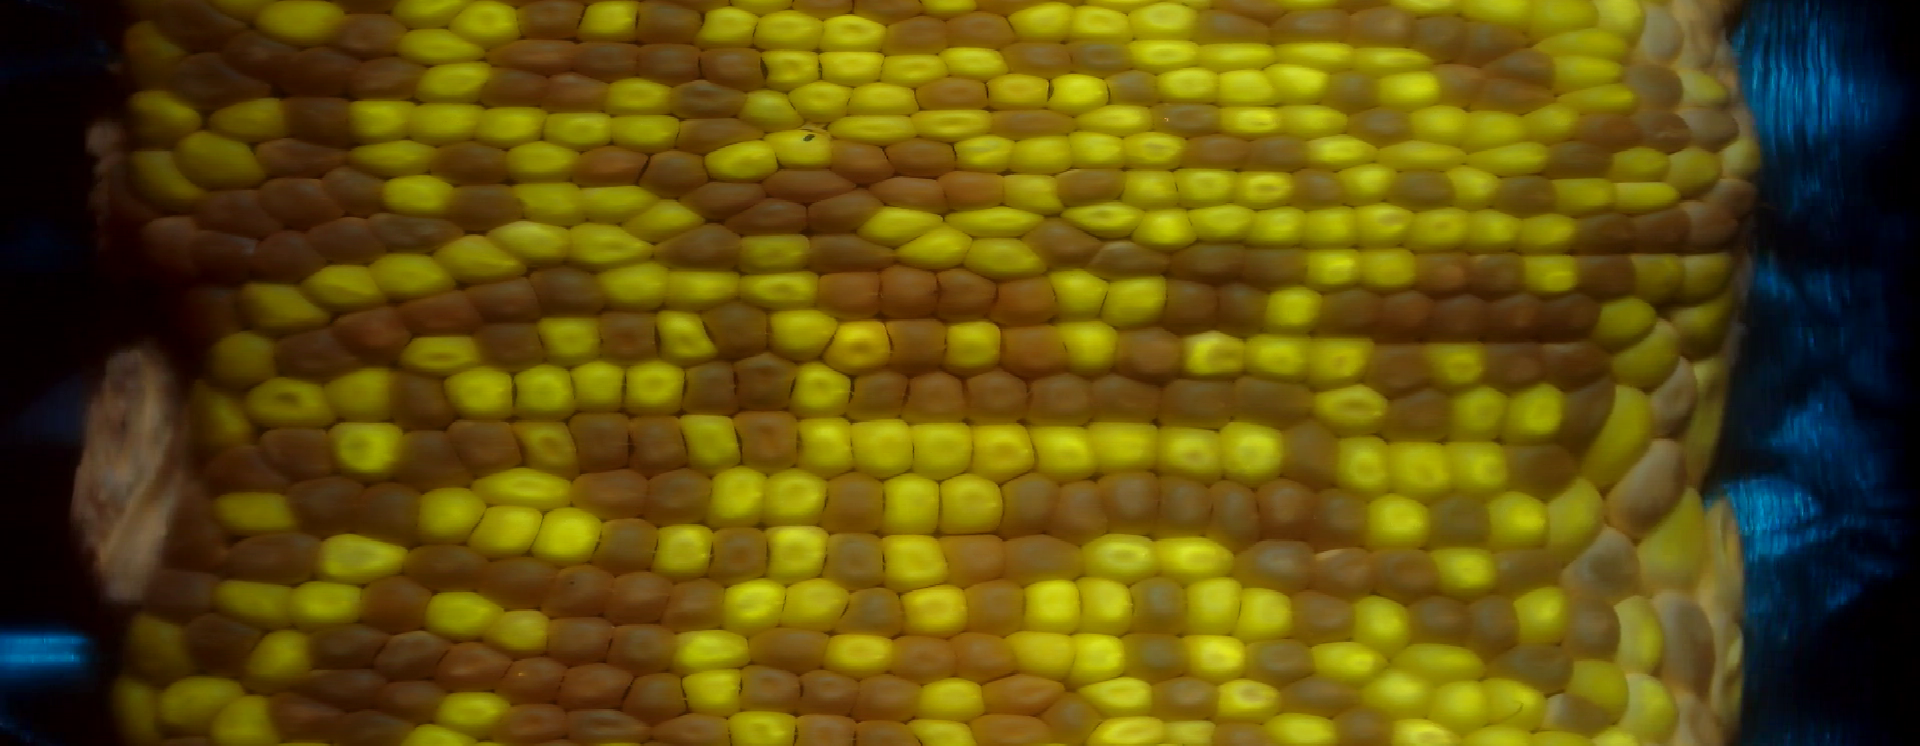fluorescent: (1644, 496, 1709, 597), (1592, 385, 1656, 486), (236, 276, 331, 333), (178, 127, 266, 187), (433, 233, 533, 285), (1614, 318, 1686, 391), (122, 608, 191, 682), (934, 472, 1010, 538), (1618, 668, 1681, 746), (1544, 481, 1603, 566), (241, 625, 312, 695), (876, 530, 955, 590), (204, 330, 279, 393), (1150, 424, 1224, 486), (157, 674, 234, 734), (1307, 383, 1391, 437), (326, 420, 407, 477), (1342, 590, 1412, 655), (1565, 655, 1630, 725), (442, 365, 524, 420), (1609, 593, 1667, 671), (129, 149, 202, 211), (473, 501, 546, 562), (850, 414, 915, 483), (533, 507, 604, 570), (475, 467, 576, 511), (1151, 532, 1236, 583), (298, 266, 388, 314), (1425, 544, 1500, 601), (1220, 423, 1286, 488), (563, 219, 655, 266), (317, 534, 409, 581), (967, 418, 1038, 478), (415, 485, 487, 544), (246, 375, 331, 425), (760, 465, 827, 529), (1031, 420, 1098, 483), (212, 576, 298, 625), (424, 587, 503, 639), (898, 582, 971, 638), (793, 413, 855, 480), (489, 217, 571, 267), (789, 360, 857, 420), (1386, 439, 1455, 499), (1482, 492, 1551, 551), (718, 575, 787, 633), (661, 260, 741, 311), (288, 577, 367, 628), (1078, 533, 1161, 582), (1531, 24, 1631, 65), (1089, 419, 1162, 474), (965, 232, 1047, 281), (781, 576, 851, 633), (209, 490, 298, 535), (765, 522, 828, 586), (656, 306, 721, 367), (683, 413, 744, 478), (1003, 630, 1076, 684), (1238, 333, 1313, 386), (828, 318, 898, 375), (334, 369, 404, 425), (1336, 434, 1397, 497), (702, 465, 767, 526), (768, 307, 840, 361), (509, 359, 576, 418), (252, 1, 345, 43), (125, 88, 193, 145), (651, 519, 714, 581), (1025, 577, 1087, 638), (512, 418, 577, 477), (108, 670, 158, 746), (1104, 274, 1171, 332), (912, 416, 973, 478), (942, 316, 1004, 376), (1423, 334, 1487, 393), (1049, 266, 1114, 323), (1429, 675, 1494, 733), (414, 59, 491, 107), (372, 254, 458, 296), (1057, 317, 1118, 377), (121, 16, 182, 76), (857, 202, 940, 246), (624, 359, 687, 418), (1446, 439, 1509, 497), (1367, 492, 1429, 551), (735, 269, 819, 312), (1078, 676, 1162, 719), (397, 24, 486, 65), (1310, 635, 1384, 684), (507, 181, 588, 225), (883, 472, 936, 539), (1179, 330, 1251, 379), (482, 608, 555, 657), (535, 312, 604, 364), (1449, 385, 1509, 443), (1487, 674, 1547, 733), (1507, 387, 1570, 443), (399, 330, 479, 374), (912, 674, 986, 722), (673, 627, 751, 673), (473, 102, 551, 146), (1183, 579, 1242, 638), (902, 225, 978, 271), (436, 687, 509, 734), (1393, 644, 1487, 681), (736, 229, 816, 272), (212, 693, 278, 745), (571, 355, 629, 413), (1079, 577, 1138, 635), (1678, 296, 1734, 356), (1236, 586, 1297, 641), (1179, 635, 1251, 681), (600, 262, 669, 311), (823, 628, 891, 677), (944, 205, 1049, 236), (1354, 243, 1420, 293), (1510, 586, 1566, 644), (767, 120, 834, 169), (1626, 249, 1679, 311), (1309, 333, 1373, 385), (540, 107, 613, 151), (1215, 673, 1281, 722), (1665, 146, 1727, 198), (504, 141, 582, 183), (381, 174, 456, 217), (347, 138, 433, 175), (1071, 630, 1129, 685), (623, 201, 702, 241), (613, 111, 684, 156), (913, 107, 998, 143), (1365, 671, 1430, 719), (1078, 103, 1164, 138), (1371, 138, 1464, 171), (1134, 206, 1198, 254), (1304, 243, 1368, 290), (740, 87, 804, 134), (1000, 171, 1065, 218), (1351, 201, 1416, 247), (213, 99, 288, 140), (680, 669, 740, 719), (1409, 208, 1476, 254), (415, 102, 493, 140), (1265, 283, 1322, 334), (452, 2, 523, 44), (704, 143, 781, 181), (752, 9, 827, 48), (1067, 202, 1146, 239), (1044, 71, 1108, 116), (1518, 251, 1582, 296), (1598, 296, 1658, 344), (830, 111, 920, 143), (1176, 164, 1239, 208), (583, 183, 651, 223), (1678, 249, 1733, 299), (757, 48, 823, 89), (1471, 143, 1554, 176), (349, 96, 413, 138), (696, 7, 760, 49), (850, 77, 923, 114), (1007, 2, 1078, 40), (1007, 134, 1078, 171), (1271, 39, 1356, 71), (820, 12, 887, 53), (1120, 129, 1187, 169), (1217, 100, 1287, 138), (1515, 214, 1576, 257), (576, 2, 640, 43), (1153, 66, 1218, 107), (1124, 165, 1180, 212), (1299, 203, 1356, 250), (1194, 40, 1276, 72), (1409, 104, 1467, 149), (791, 78, 857, 118), (1467, 208, 1523, 254), (1138, 1, 1202, 40), (1213, 67, 1278, 107), (1349, 43, 1435, 72), (1187, 205, 1255, 241), (820, 48, 887, 86), (1379, 70, 1445, 108), (1340, 160, 1393, 207), (1551, 176, 1611, 218), (1540, 56, 1625, 86), (1272, 62, 1329, 107), (1283, 104, 1356, 138), (604, 75, 671, 111), (1247, 205, 1304, 247), (1272, 708, 1337, 746), (988, 71, 1057, 107), (204, 390, 249, 445), (1466, 109, 1526, 149), (729, 712, 798, 746), (1234, 170, 1297, 208), (1078, 1, 1138, 40), (1531, 1, 1602, 34), (1130, 36, 1198, 70), (1068, 127, 1125, 167), (1556, 82, 1640, 109), (1087, 717, 1163, 746), (1310, 134, 1378, 167), (1450, 167, 1499, 212), (951, 134, 1014, 169), (882, 54, 950, 86), (1609, 146, 1670, 181), (1528, 107, 1583, 145), (1682, 64, 1728, 109), (1611, 181, 1681, 211), (942, 48, 1008, 77), (1596, 1, 1644, 40), (1719, 138, 1763, 178), (1161, 717, 1220, 746)
nonfluorescent: (1603, 439, 1682, 541), (1651, 592, 1723, 693), (168, 48, 279, 107), (1562, 524, 1641, 604), (220, 528, 318, 586), (158, 501, 229, 575), (647, 222, 744, 274), (396, 424, 476, 488), (338, 304, 415, 369), (996, 529, 1086, 582), (272, 330, 360, 383), (958, 363, 1033, 425), (1488, 639, 1577, 692), (178, 281, 256, 341), (947, 624, 1021, 686), (1021, 217, 1102, 274), (446, 418, 527, 475), (447, 176, 529, 233), (825, 469, 891, 539), (1238, 535, 1311, 598), (1558, 377, 1618, 453), (256, 175, 347, 225), (435, 638, 512, 697), (1109, 322, 1182, 385), (369, 206, 460, 255), (467, 272, 546, 328), (1280, 416, 1340, 491), (996, 320, 1071, 379), (284, 477, 360, 535), (624, 409, 691, 477), (530, 262, 607, 320), (1375, 540, 1441, 606), (1228, 372, 1313, 424), (807, 227, 898, 274), (276, 48, 358, 100), (824, 532, 891, 595), (404, 540, 487, 592), (394, 293, 484, 341), (700, 301, 771, 361), (305, 213, 386, 266), (1158, 375, 1239, 428), (1084, 374, 1162, 428), (557, 657, 636, 710), (1168, 235, 1250, 287), (997, 475, 1060, 541), (707, 522, 773, 586), (191, 617, 257, 681), (355, 481, 422, 544), (193, 187, 279, 236), (1505, 437, 1573, 499), (1029, 367, 1098, 428), (733, 412, 803, 472), (383, 371, 456, 429), (1156, 470, 1213, 543), (936, 533, 1008, 590), (1647, 360, 1698, 441), (564, 469, 647, 519), (1202, 478, 1262, 546), (258, 425, 338, 477), (1254, 474, 1318, 538), (677, 356, 742, 419), (1305, 546, 1379, 601), (931, 262, 998, 322), (882, 316, 949, 376), (1309, 481, 1368, 550), (840, 582, 909, 641), (1378, 386, 1452, 440), (479, 555, 553, 609), (157, 1, 240, 49), (1561, 598, 1625, 660), (307, 624, 391, 671), (594, 306, 660, 366), (733, 354, 800, 414), (1240, 635, 1318, 686), (876, 262, 944, 320), (349, 51, 424, 104), (284, 92, 354, 148), (1091, 235, 1176, 282), (662, 576, 729, 635), (1367, 341, 1434, 398), (813, 267, 882, 323), (610, 620, 678, 676), (749, 624, 830, 671), (1464, 590, 1520, 660), (639, 472, 718, 521), (478, 37, 582, 73), (1318, 282, 1382, 341), (1536, 341, 1611, 391), (375, 627, 451, 677), (1217, 274, 1275, 341), (962, 577, 1029, 635), (255, 228, 324, 282), (1240, 238, 1310, 292), (549, 562, 618, 616), (853, 669, 923, 723), (302, 661, 383, 708), (433, 138, 512, 186), (1120, 628, 1191, 681), (1051, 477, 1108, 541), (204, 443, 277, 495), (842, 367, 910, 423), (1287, 590, 1356, 644), (360, 576, 429, 630), (1283, 673, 1360, 720), (253, 138, 347, 178), (1153, 670, 1220, 725), (767, 160, 853, 202), (140, 214, 202, 272), (572, 140, 649, 186), (902, 369, 966, 425), (1130, 576, 1187, 639), (144, 571, 219, 619), (831, 134, 898, 187), (640, 146, 708, 198), (1567, 206, 1640, 255), (1494, 548, 1566, 597), (609, 563, 667, 624), (970, 706, 1057, 746), (198, 230, 262, 285), (887, 132, 960, 180), (567, 412, 631, 467), (1461, 16, 1531, 66), (621, 670, 691, 720), (547, 608, 612, 661), (1040, 690, 1104, 744), (996, 272, 1062, 325), (671, 113, 765, 149), (980, 674, 1065, 714), (568, 706, 656, 745), (1162, 278, 1220, 338), (333, 9, 405, 56), (1682, 196, 1739, 257), (1431, 285, 1487, 348), (1100, 472, 1155, 534), (735, 664, 808, 710), (1531, 292, 1596, 344), (804, 190, 887, 232), (667, 78, 752, 119), (1191, 7, 1271, 50), (320, 167, 386, 218), (1411, 592, 1471, 648), (1430, 492, 1491, 548), (633, 38, 705, 85), (871, 171, 949, 214), (1472, 73, 1560, 111), (912, 72, 994, 113), (682, 176, 767, 216), (1376, 288, 1435, 344), (1580, 247, 1640, 303), (1466, 247, 1529, 299), (596, 519, 660, 571), (793, 666, 862, 714), (729, 197, 809, 238), (789, 702, 862, 746), (504, 655, 572, 703), (1629, 205, 1693, 254), (479, 64, 549, 109), (700, 44, 768, 91), (1539, 690, 1610, 734), (545, 67, 609, 116), (1547, 137, 1614, 183), (938, 167, 1005, 212), (1346, 6, 1417, 49), (1002, 36, 1070, 80), (573, 36, 638, 82), (1487, 339, 1547, 390), (1393, 167, 1460, 212), (1272, 6, 1351, 44), (1489, 176, 1556, 220), (228, 28, 291, 75), (947, 9, 1018, 50), (898, 633, 956, 684), (1633, 107, 1693, 156), (1344, 102, 1411, 146), (989, 107, 1078, 140), (650, 712, 735, 746), (1625, 62, 1684, 111), (1580, 107, 1640, 154), (1057, 167, 1125, 208), (514, 1, 587, 40), (1151, 100, 1223, 140), (496, 702, 572, 739), (884, 13, 949, 56), (636, 2, 704, 43), (1413, 11, 1467, 62), (1487, 292, 1538, 345), (377, 677, 440, 722), (1325, 66, 1382, 114), (1287, 167, 1344, 214), (1414, 249, 1472, 296), (1682, 103, 1741, 149), (1063, 36, 1131, 75), (1179, 134, 1249, 171), (1640, 4, 1682, 64), (1247, 132, 1311, 171), (1335, 704, 1395, 746), (1494, 49, 1556, 88), (849, 709, 913, 746), (1436, 59, 1484, 107), (1107, 69, 1163, 109)
